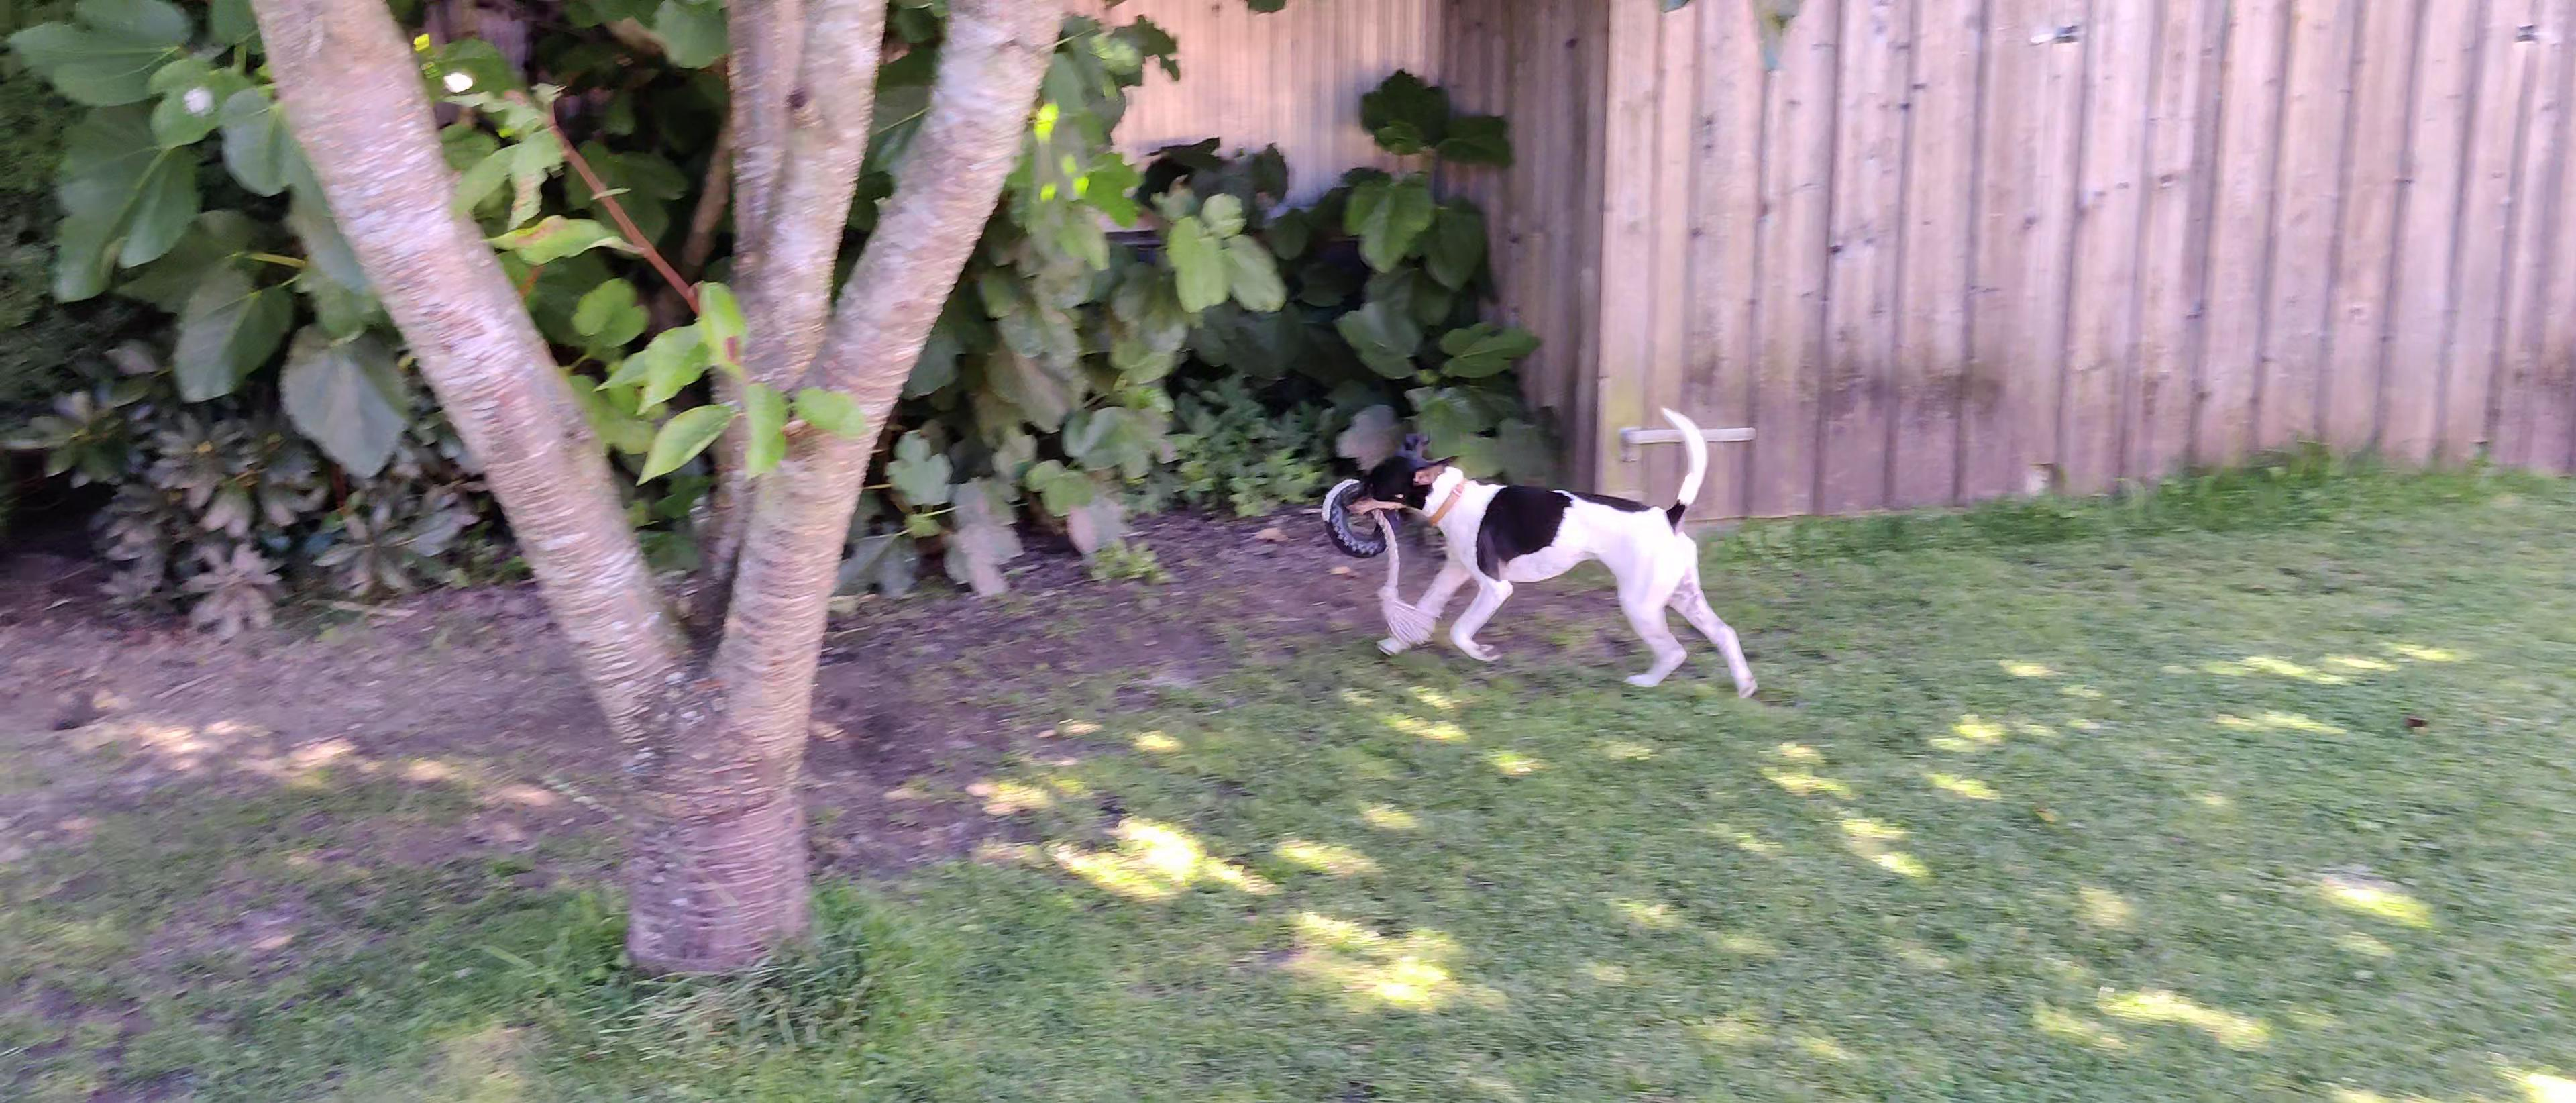Dog: (1341, 403, 1761, 700)
